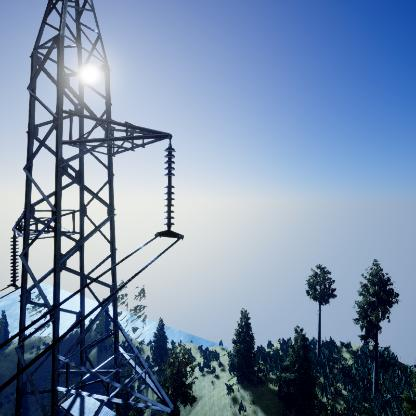insulator: (162, 147, 178, 231), (9, 234, 20, 285)
